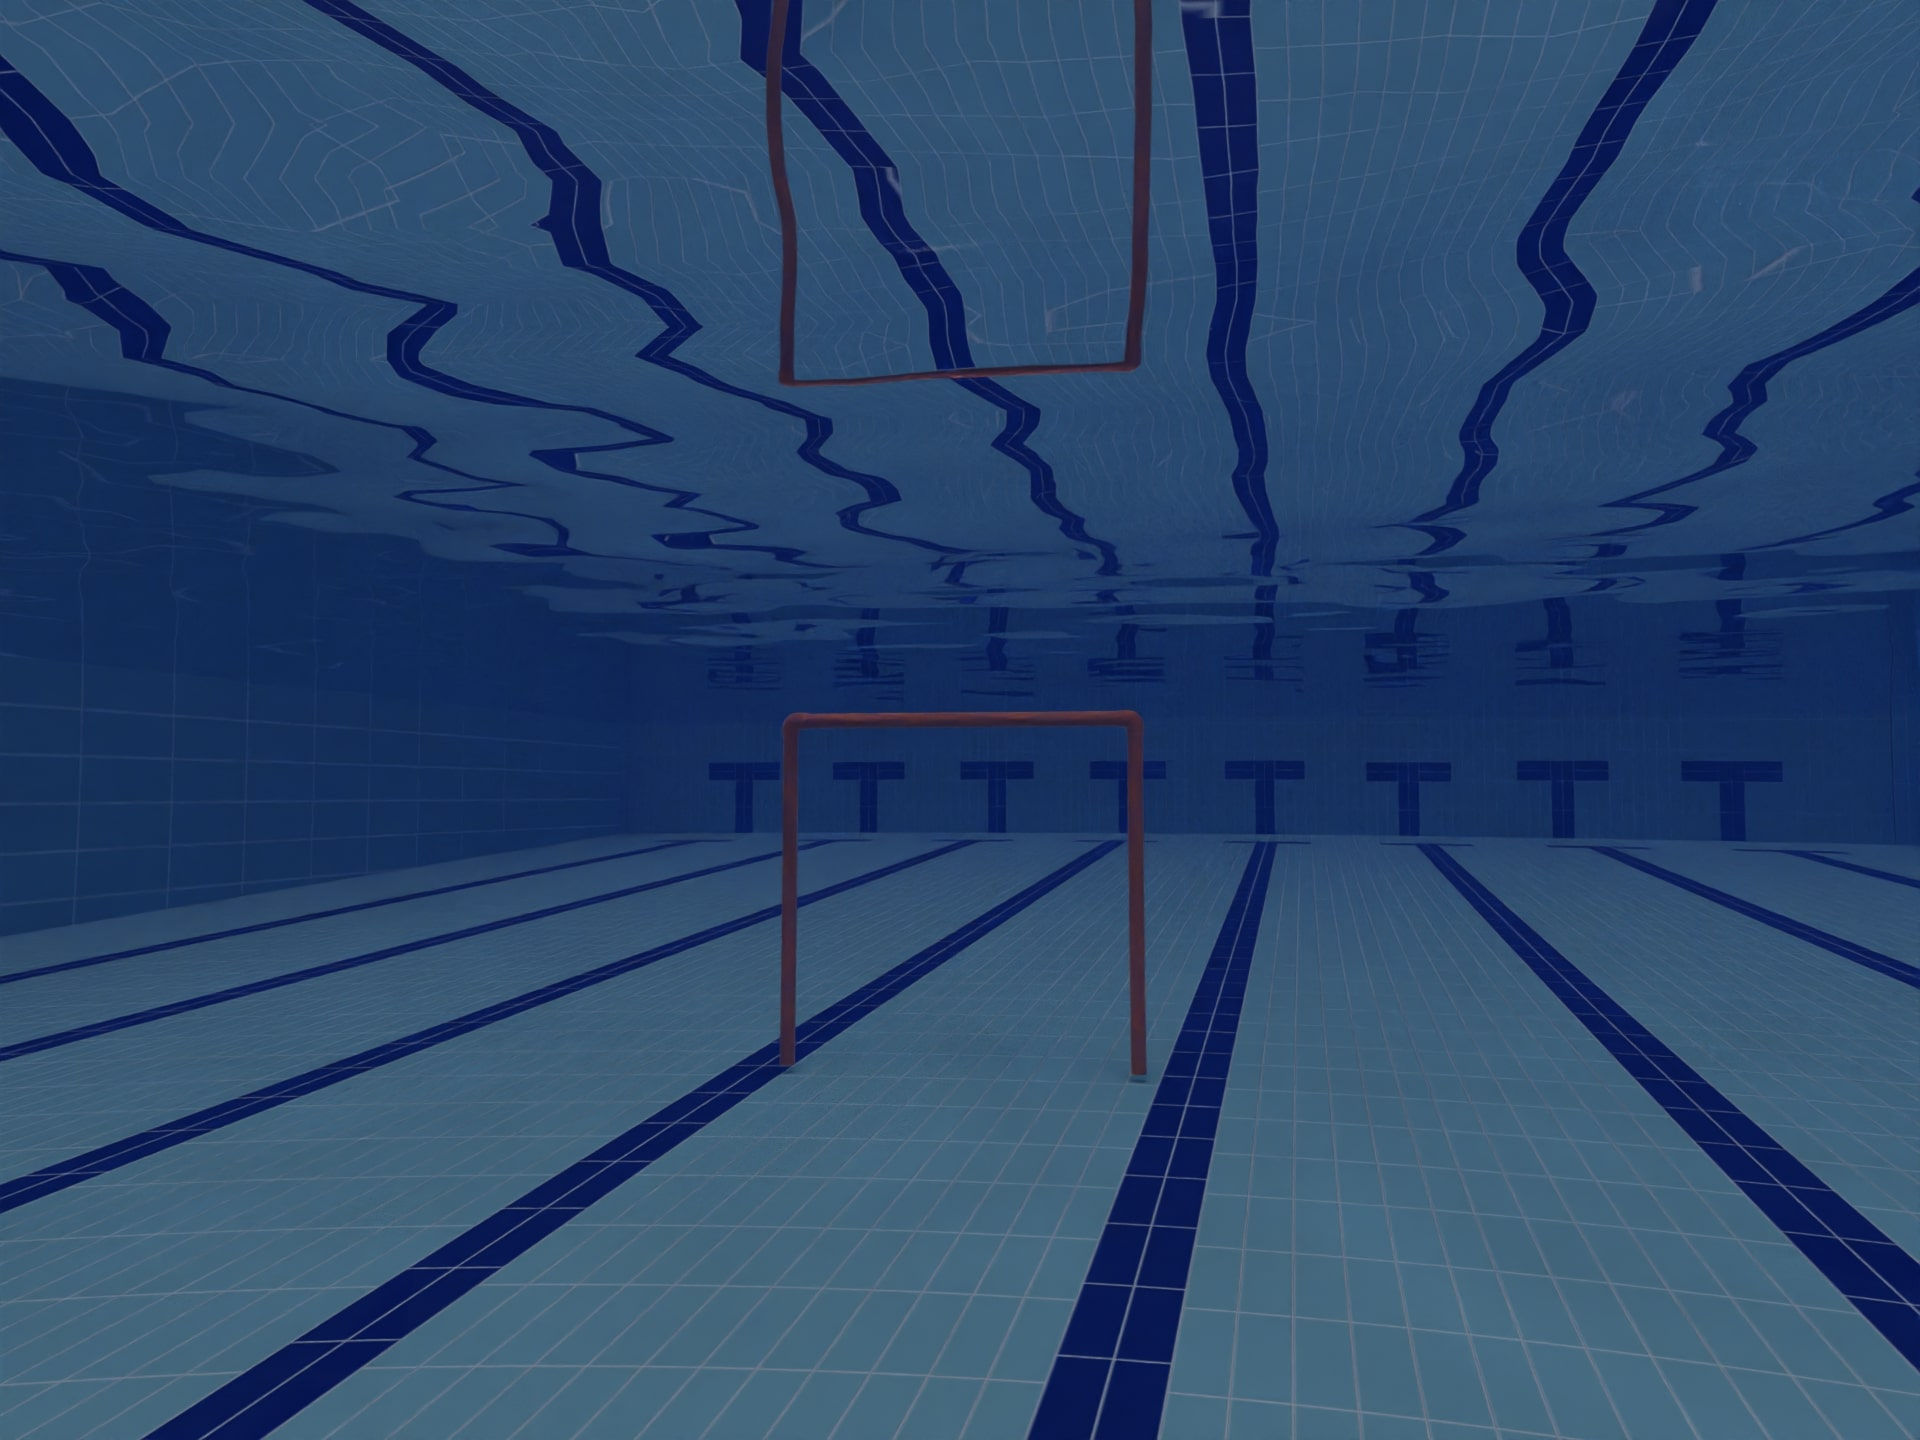gate: (760, 684, 1187, 1091)
